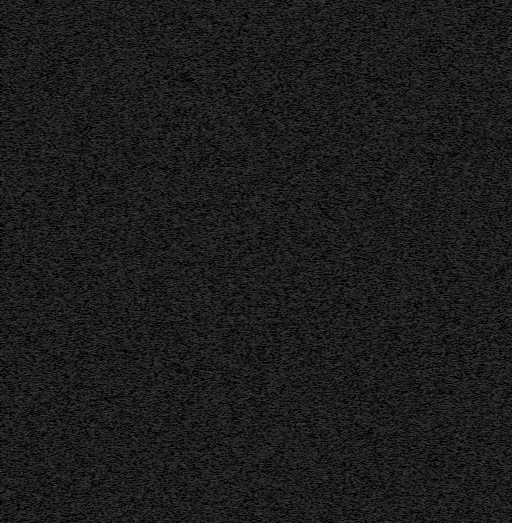wv_am: (309, 0, 315, 522), (163, 0, 169, 522), (34, 0, 40, 522), (36, 0, 42, 522), (249, 0, 254, 248), (454, 0, 459, 246), (454, 373, 459, 500), (454, 267, 459, 338), (249, 472, 254, 522), (249, 423, 254, 465), (249, 375, 254, 417), (249, 261, 254, 298), (249, 325, 254, 347), (454, 345, 459, 366), (454, 503, 459, 522), (249, 351, 254, 369), (249, 304, 254, 322), (454, 248, 459, 262), (455, 367, 458, 371), (455, 340, 458, 343), (455, 263, 458, 266)
wv_usb: (52, 154, 57, 258), (52, 296, 57, 369), (52, 87, 57, 153), (52, 370, 57, 430), (52, 13, 57, 72), (52, 471, 57, 522), (470, 86, 473, 170), (52, 448, 57, 470), (470, 300, 474, 327), (470, 328, 474, 353), (470, 245, 474, 268), (52, 431, 57, 447), (469, 171, 474, 185), (52, 282, 57, 295), (470, 472, 474, 488), (470, 373, 474, 389), (470, 284, 474, 299), (52, 269, 57, 281), (470, 271, 474, 283), (470, 188, 474, 198), (52, 73, 57, 81), (470, 506, 473, 518), (52, 259, 56, 268), (470, 365, 474, 372), (470, 391, 473, 400), (470, 214, 473, 223), (470, 437, 473, 445), (470, 427, 473, 435), (470, 355, 473, 362), (470, 410, 474, 415), (470, 239, 474, 244), (52, 82, 57, 86), (470, 498, 473, 504), (470, 456, 474, 460), (470, 401, 473, 406), (470, 231, 473, 235), (470, 226, 473, 230), (470, 489, 473, 492), (470, 463, 473, 466)
wv_wbfm: (59, 0, 69, 522)
